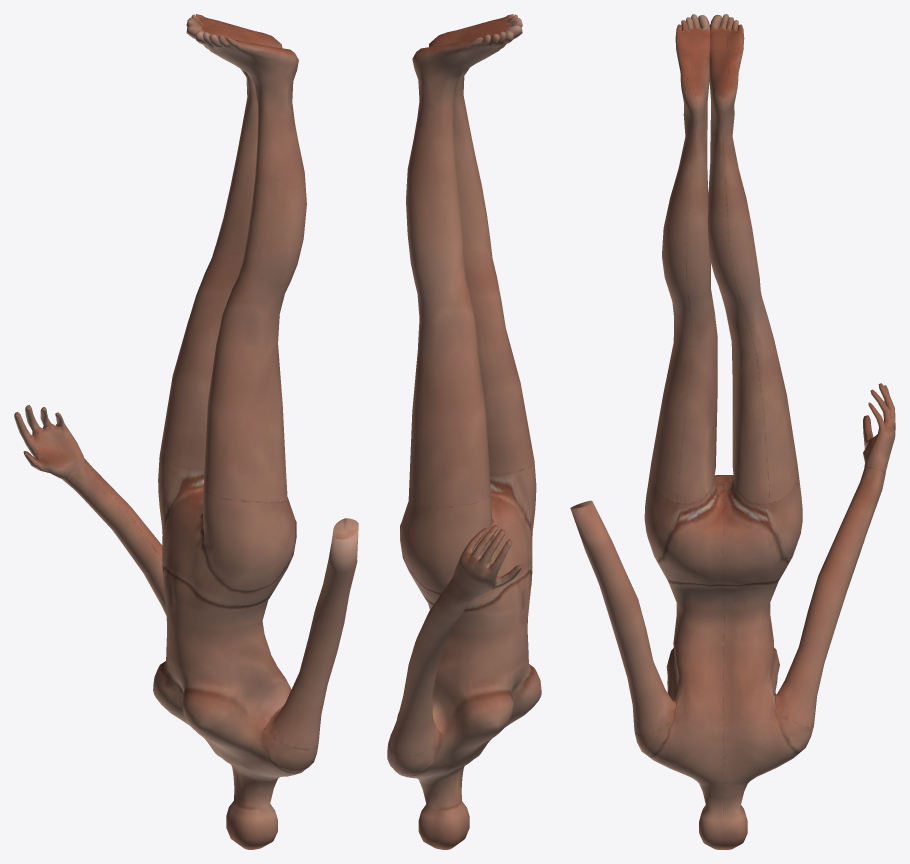
Rendered from SM_Dolls_Barbie_2.fbx.
3 views of the same model, side by side, from view 1: azimuth 30°, elevation 25°; view 2: azimuth 150°, elevation 25°; view 3: azimuth 270°, elevation 25° (orthographic). The views are drawn at different scales.
Parts seen in each view (by area): view 1: SM_Dolls_Barbie_2; view 2: SM_Dolls_Barbie_2; view 3: SM_Dolls_Barbie_2.
Boxes of the visible parts, <box> form: SM_Dolls_Barbie_2: <box>14,14,358,849</box>; SM_Dolls_Barbie_2: <box>387,14,541,849</box>; SM_Dolls_Barbie_2: <box>570,14,895,849</box>.
Size of the model in its own units: 8.17 by 12.52 by 34.12.
Materials: 1 (1 with a texture image).
